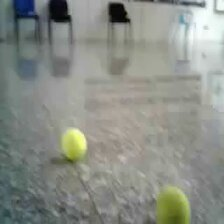tennis: (154, 185, 191, 224), (62, 127, 86, 160)
